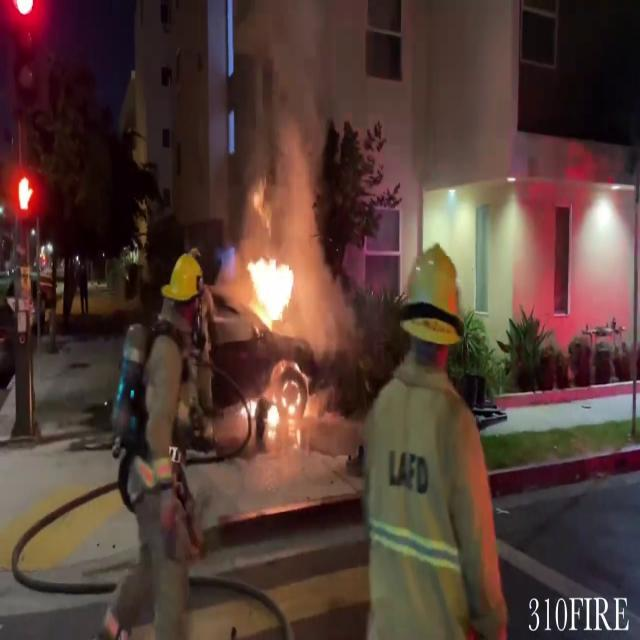Fire: (239, 238, 303, 332)
Smoke: (236, 0, 358, 318)
